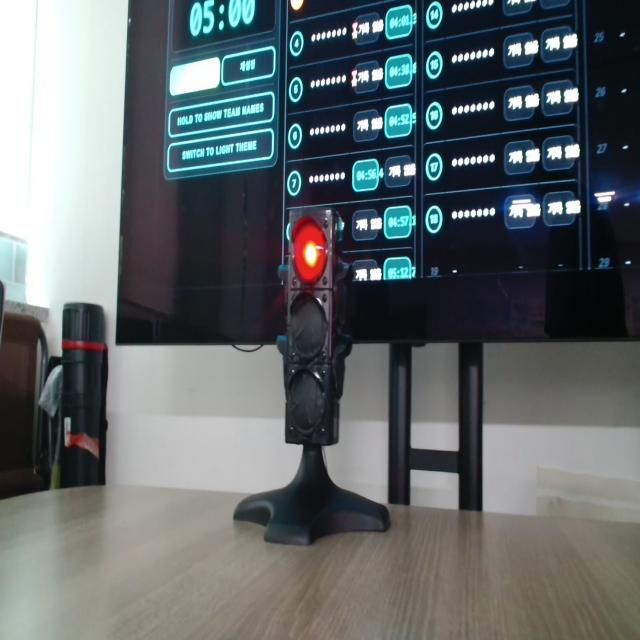red_light: (292, 219, 326, 283)
